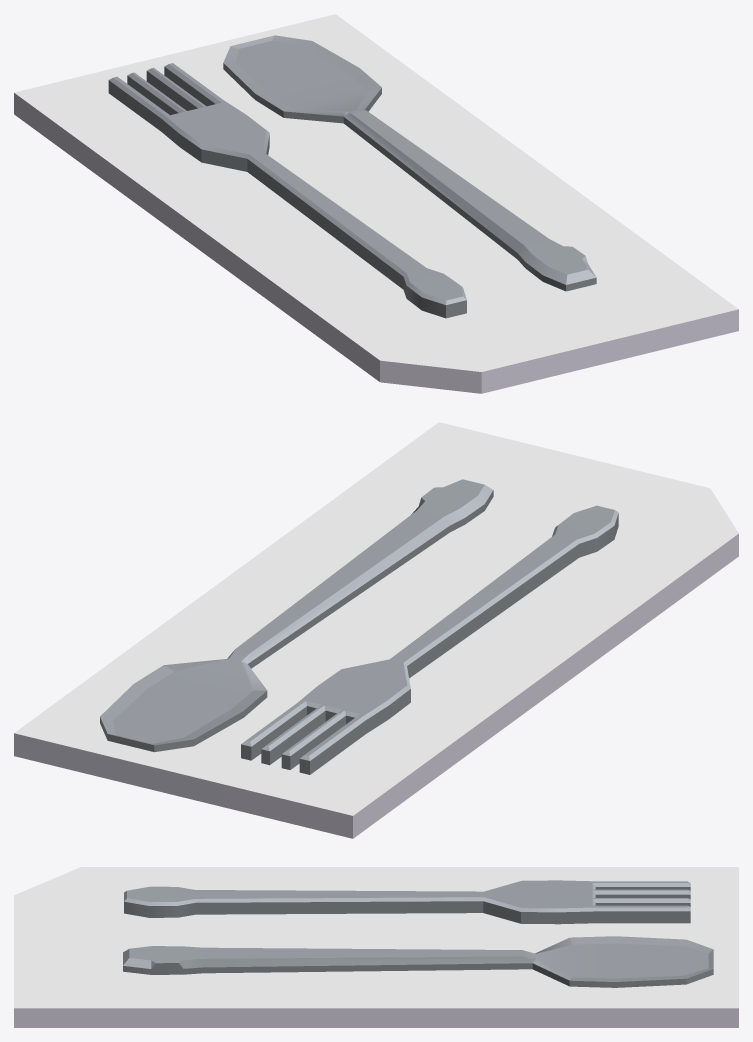
The model's file is Utensils_Mesh.fbx.
3 views of the same model, one above another, from view 1: azimuth 30°, elevation 25°; view 2: azimuth 150°, elevation 25°; view 3: azimuth 270°, elevation 25° (orthographic). The views are drawn at different scales.
Visible parts, largest first — view 1: Utensils_Mesh; view 2: Utensils_Mesh; view 3: Utensils_Mesh.
Boxes of the visible parts, x1,y1,x2,y2 form: Utensils_Mesh: (14, 14, 738, 393); Utensils_Mesh: (14, 422, 738, 838); Utensils_Mesh: (14, 867, 738, 1027).
Size of the model in its own units: 19.62 by 2.36 by 42.6.
Materials: 1 (1 with a texture image).
